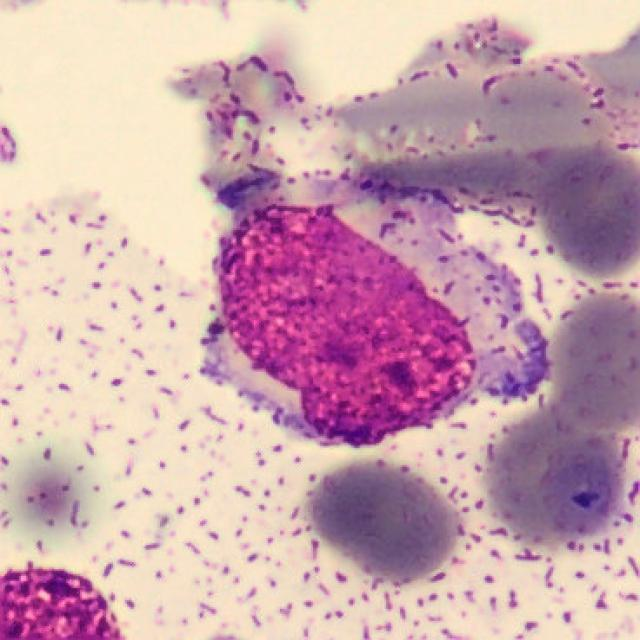Mieloblasto: (200, 173, 553, 448)
